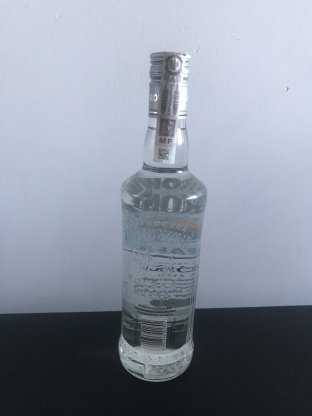nakretka: (146, 46, 192, 122)
